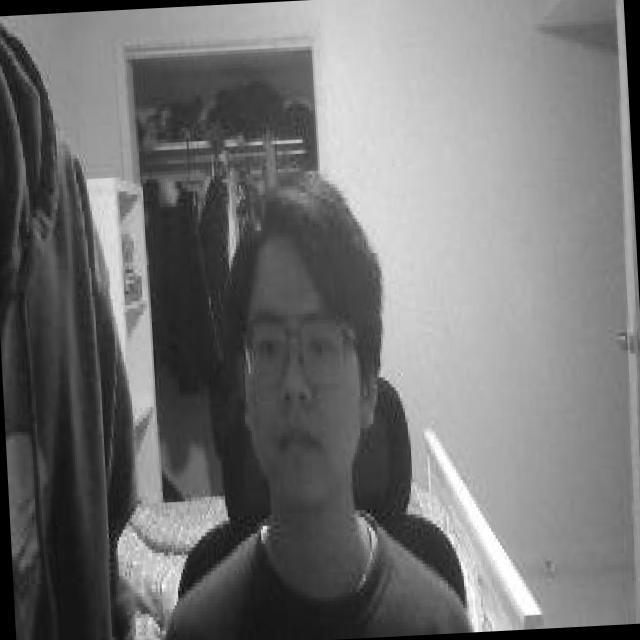Focused: (240, 281, 364, 481)
